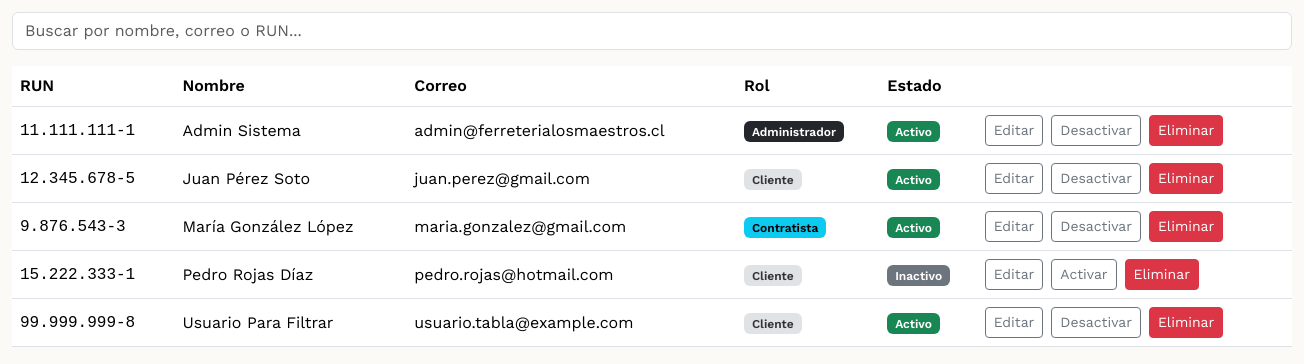
Test: <TablaUsuariosAdmin /> › filtra las filas por nombre, correo o RUN
Step 1. Type "usuario.tabla@" into the search field → (652, 31), box [12,12,1292,50]
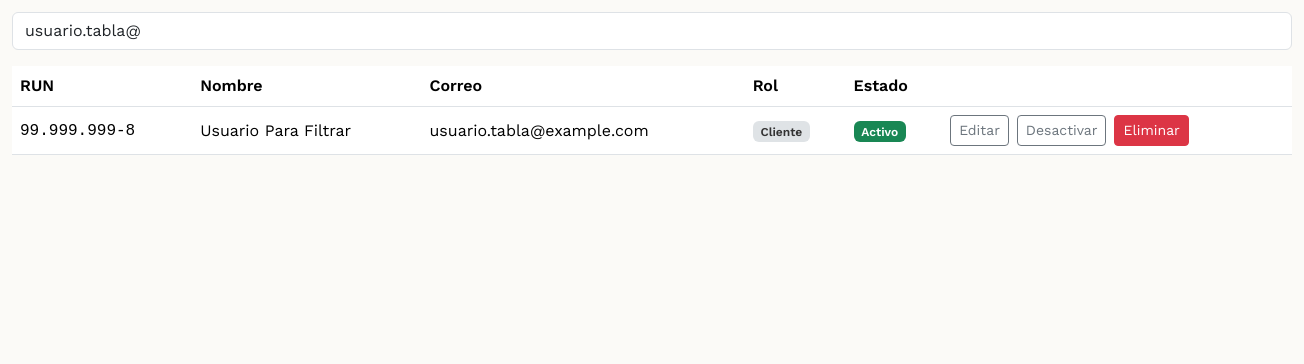
Expected: the text "Usuario Para Filtrar" is shown, [192,106,422,154]
Result: the text "Juan Pérez Soto" is gone
